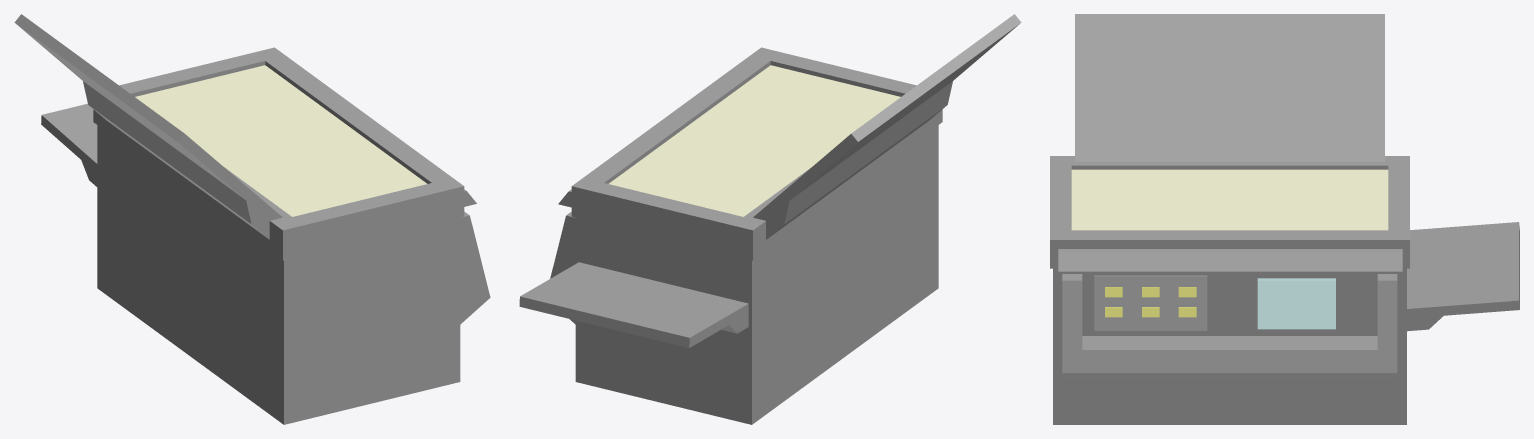
File: Printer.fbx
3 views of the same model, side by side, from view 1: azimuth 30°, elevation 25°; view 2: azimuth 150°, elevation 25°; view 3: azimuth 270°, elevation 25° (orthographic). The views are drawn at different scales.
Parts seen in each view (by area): view 1: Shredder; view 2: Shredder; view 3: Shredder.
Boxes of the visible parts, x1,y1,x2,y2 form: Shredder: [14, 14, 490, 424]; Shredder: [519, 14, 1021, 424]; Shredder: [1050, 14, 1519, 424].
Bounding box in the file's own units: 5.95 × 5.65 × 8.34.
